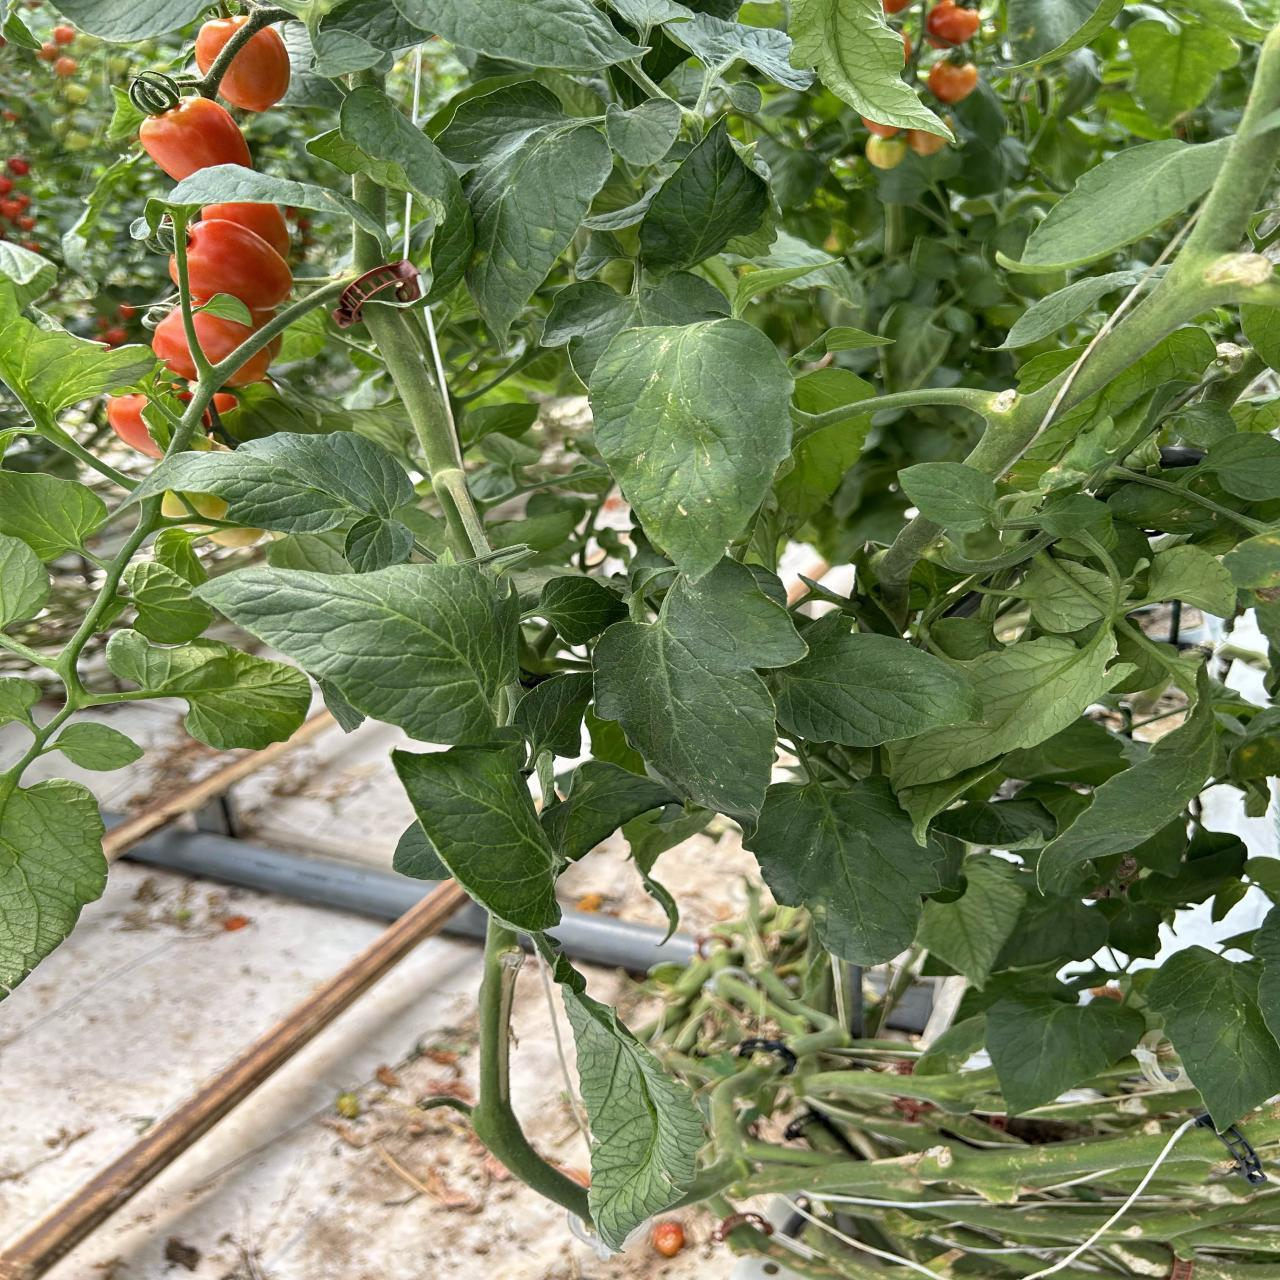Hoja: (593, 554, 810, 826), (198, 564, 520, 744), (590, 319, 794, 577), (892, 622, 1131, 788), (563, 987, 704, 1251), (745, 776, 945, 962), (465, 116, 613, 338), (1040, 699, 1214, 880), (392, 744, 559, 930), (767, 611, 980, 747), (1021, 137, 1234, 270), (147, 431, 416, 533), (107, 629, 311, 749), (1148, 947, 1280, 1130), (788, 0, 953, 144), (0, 779, 108, 999), (640, 122, 771, 273), (985, 996, 1143, 1114), (395, 0, 644, 73), (0, 471, 108, 561), (1017, 552, 1133, 633), (523, 577, 628, 646), (899, 463, 995, 533), (606, 97, 681, 166), (47, 722, 143, 770), (346, 516, 414, 573)
Pedunculo: (1062, 32, 1280, 409), (469, 919, 591, 1221), (363, 301, 478, 557), (964, 372, 1068, 479), (876, 517, 940, 606), (353, 219, 384, 274), (352, 173, 387, 218)
Tomate: (186, 218, 292, 326), (139, 97, 251, 181), (219, 26, 290, 111), (202, 203, 290, 258), (107, 395, 163, 458), (193, 311, 253, 365), (152, 306, 196, 380), (196, 16, 248, 72), (926, 0, 980, 45), (230, 338, 280, 384), (926, 61, 978, 103)
